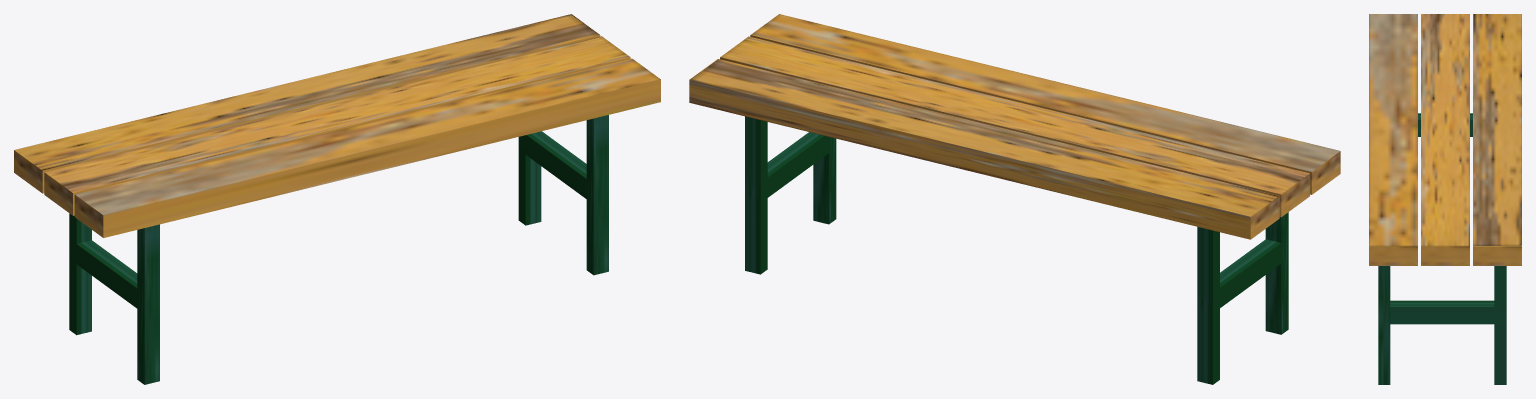
File: bench.fbx
3 views of the same model, side by side, from view 1: azimuth 30°, elevation 25°; view 2: azimuth 150°, elevation 25°; view 3: azimuth 270°, elevation 25° (orthographic). The views are drawn at different scales.
Parts seen in each view (by area): view 1: Cube.004; view 2: Cube.004; view 3: Cube.004.
Part boxes in pixels (x1=…): Cube.004: x1=14, y1=14, x2=660, y2=384; Cube.004: x1=689, y1=14, x2=1340, y2=384; Cube.004: x1=1369, y1=14, x2=1521, y2=384.
Size of the model in its own units: 360 by 114 by 100.
1 material, 1 textured.
